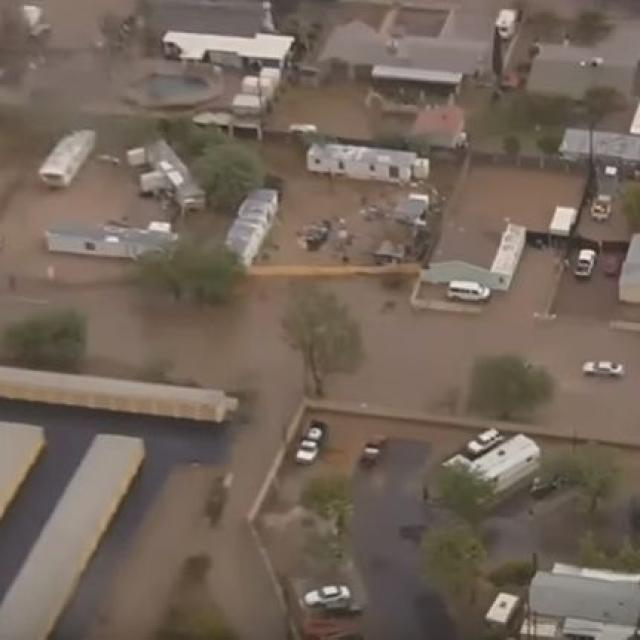flooded_areas: (3, 170, 638, 432)
